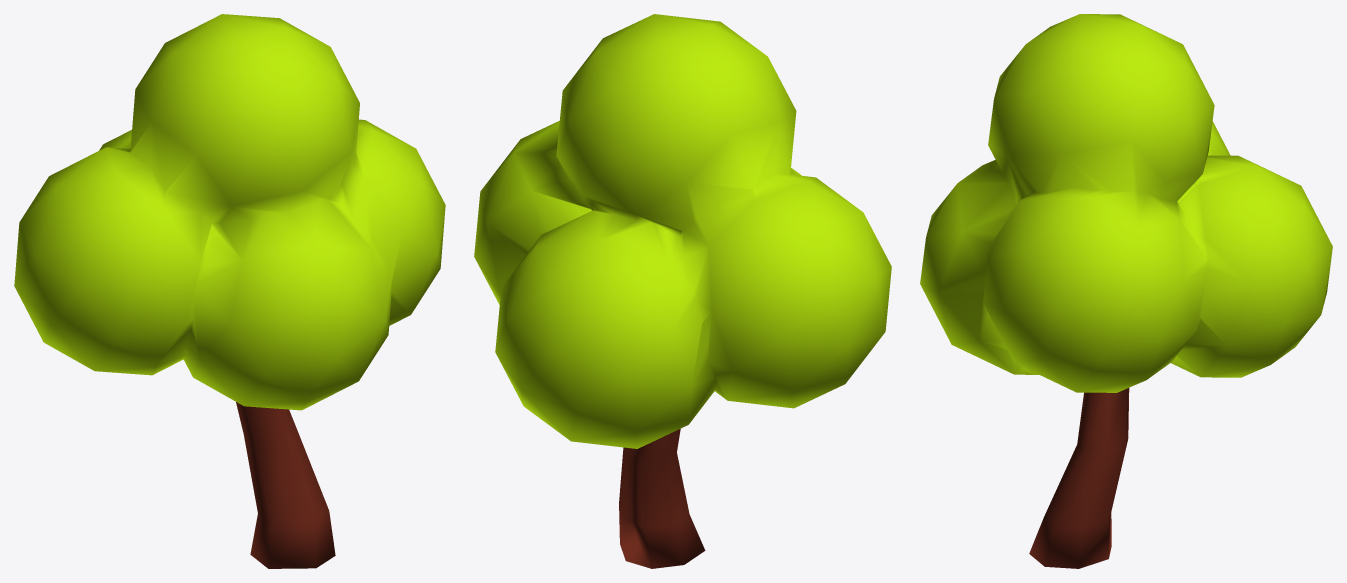
Rendered from Tree2.fbx.
The picture shows the model from 3 angles, left to right: view 1: azimuth 30°, elevation 25°; view 2: azimuth 150°, elevation 25°; view 3: azimuth 270°, elevation 25°; orthographic projection. The views are drawn at different scales.
Visible parts, largest first — view 1: Tree2; view 2: Tree2; view 3: Tree2.
Part boxes in pixels (x1,y1,x2,y2): Tree2: (14,14,445,568); Tree2: (474,14,891,568); Tree2: (920,14,1332,568).
Size of the model in its own units: 21.91 by 28.81 by 21.04.
